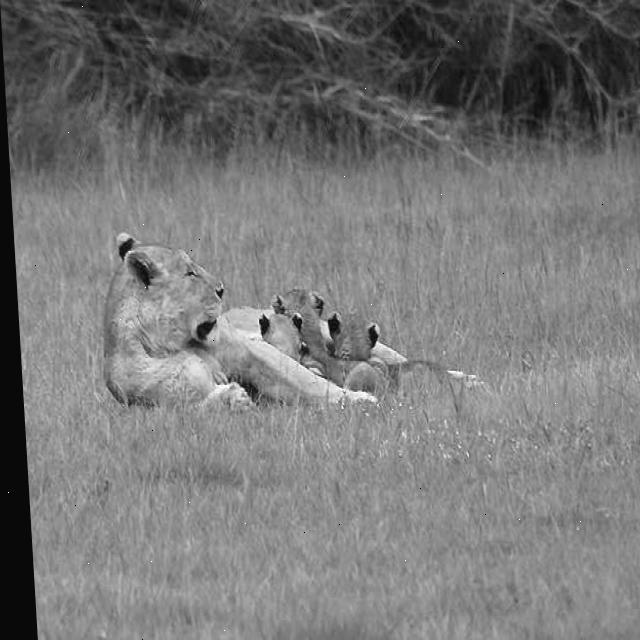Lion: (109, 240, 250, 410)
